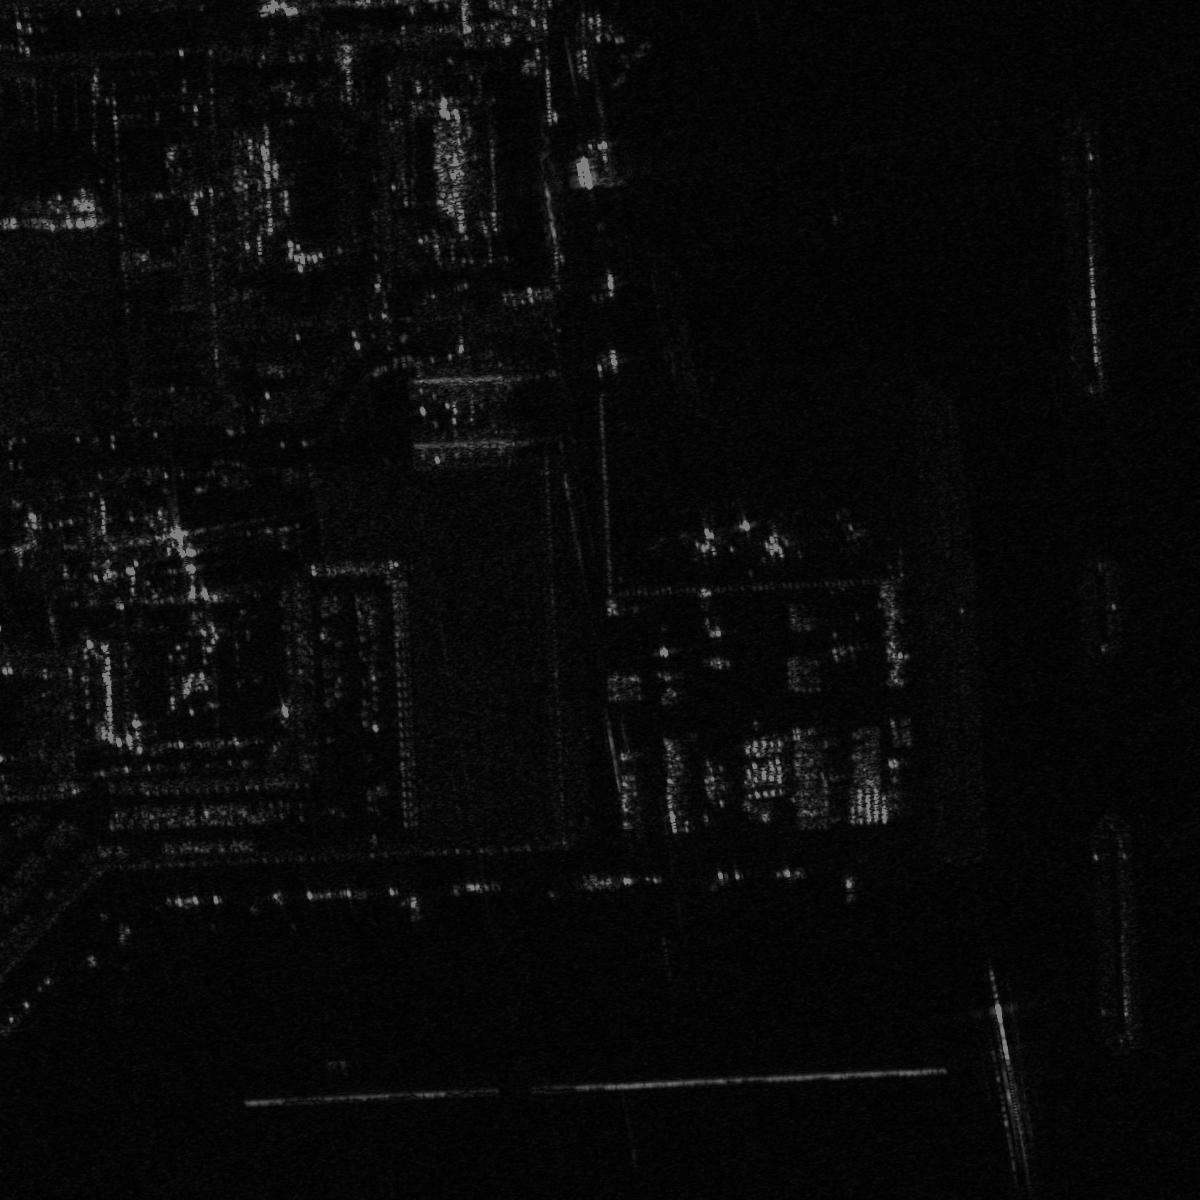ARJ21: (674, 510, 733, 562)
other: (752, 515, 805, 566)
